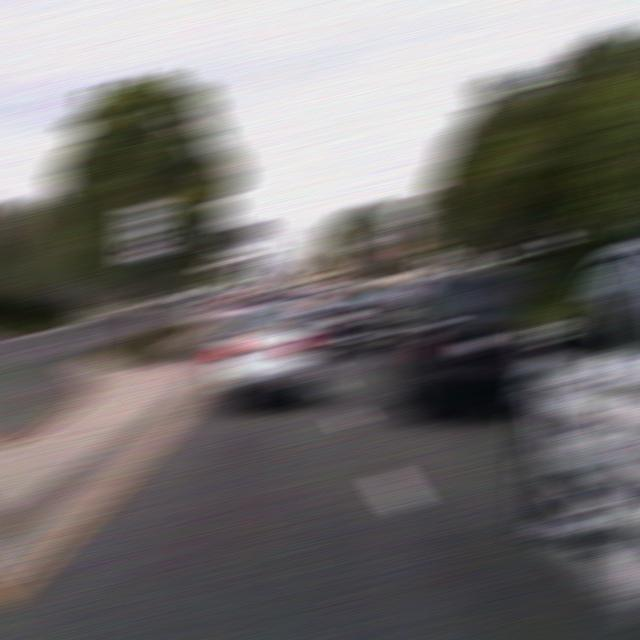speedLimit45: (120, 202, 169, 258)
